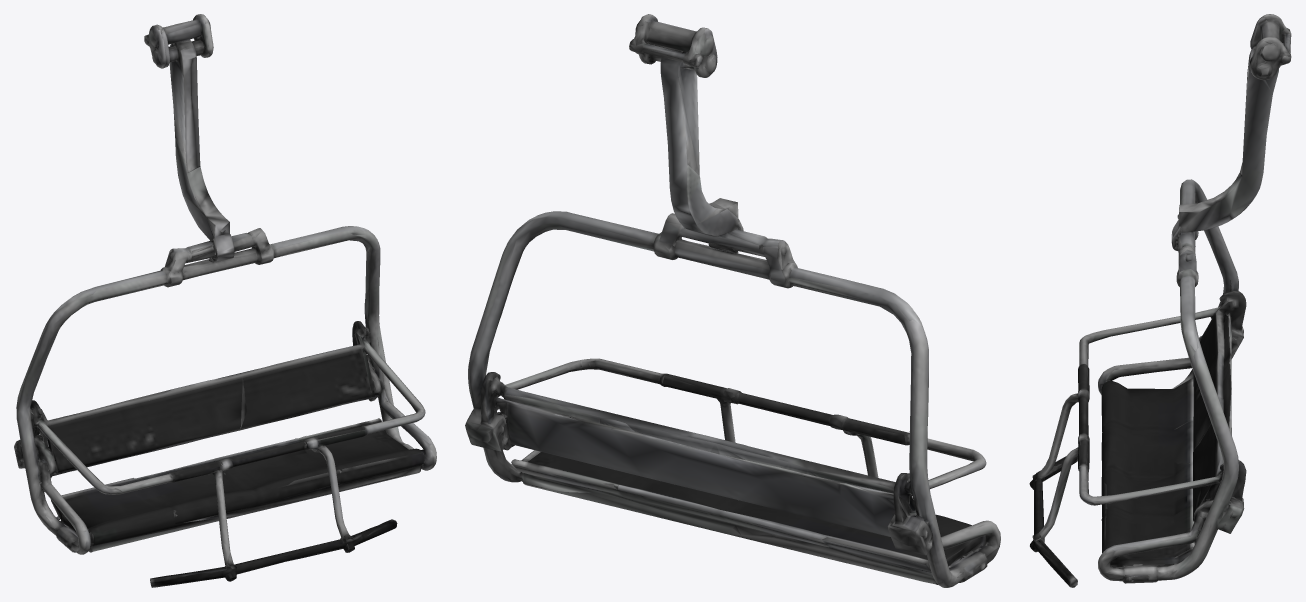
Rendered from kit_chairlift_chair.glb.
The picture shows the model from 3 angles, left to right: view 1: azimuth 30°, elevation 25°; view 2: azimuth 150°, elevation 25°; view 3: azimuth 270°, elevation 25°; orthographic projection. The views are drawn at different scales.
Parts seen in each view (by area): view 1: Mesh1.0; view 2: Mesh1.0; view 3: Mesh1.0.
Boxes of the visible parts, x1,y1,x2,y2 form: Mesh1.0: [14, 14, 436, 587]; Mesh1.0: [465, 14, 1000, 587]; Mesh1.0: [1029, 14, 1291, 587].
Size of the model in its own units: 1.54 by 1.9 by 0.9035.
1 material, 1 textured.
